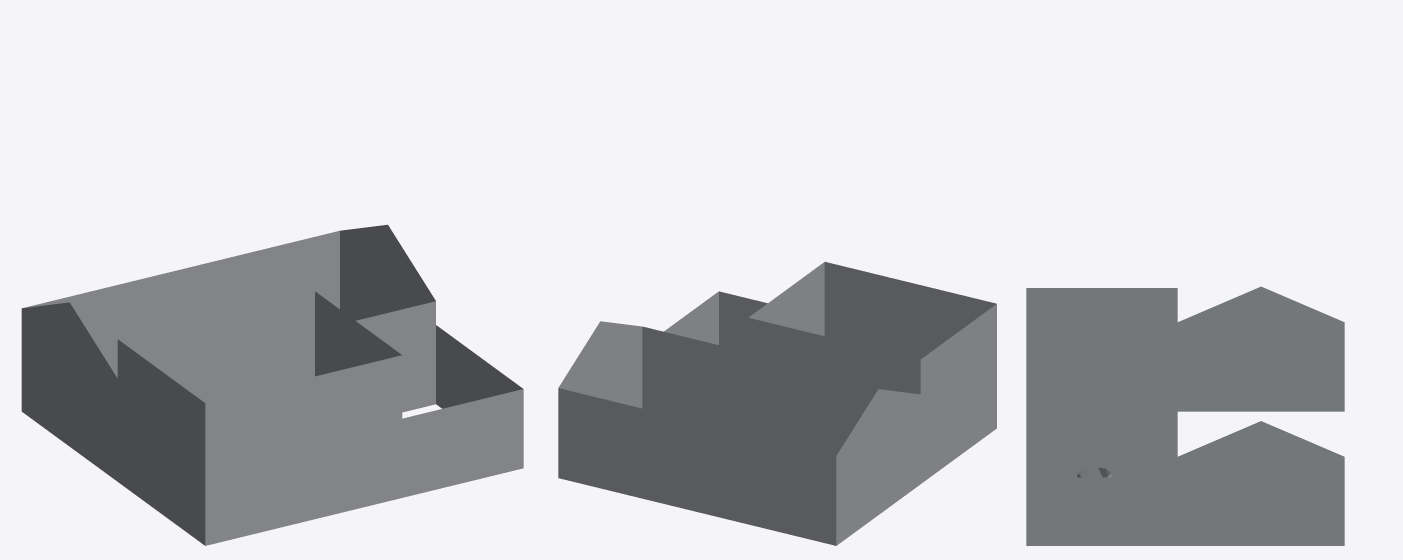
File: Bld_I_med_L5_A.fbx
3 renders of one model, left to right at view 1: azimuth 30°, elevation 25°; view 2: azimuth 150°, elevation 25°; view 3: azimuth 270°, elevation 25°, orthographic. The views are drawn at different scales.
Visible parts, largest first — view 1: Bld_I_med_L5_A_LOD0; view 2: Bld_I_med_L5_A_LOD0; view 3: Bld_I_med_L5_A_LOD0.
Part boxes in pixels (left/top/right/bottom): Bld_I_med_L5_A_LOD0: left=21, top=224, right=523, bottom=545; Bld_I_med_L5_A_LOD0: left=558, top=262, right=996, bottom=545; Bld_I_med_L5_A_LOD0: left=1026, top=286, right=1344, bottom=545.
Size of what is drawn, in the model's own units: 2630 by 3025 by 2399.
1 material, 1 textured.
